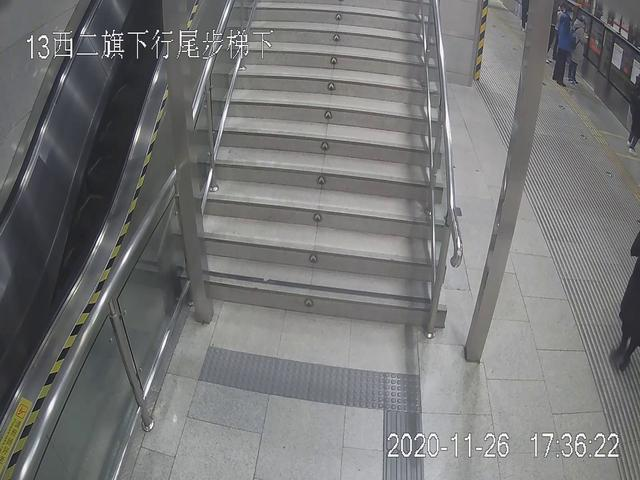person: (550, 5, 574, 85), (571, 11, 592, 80)
